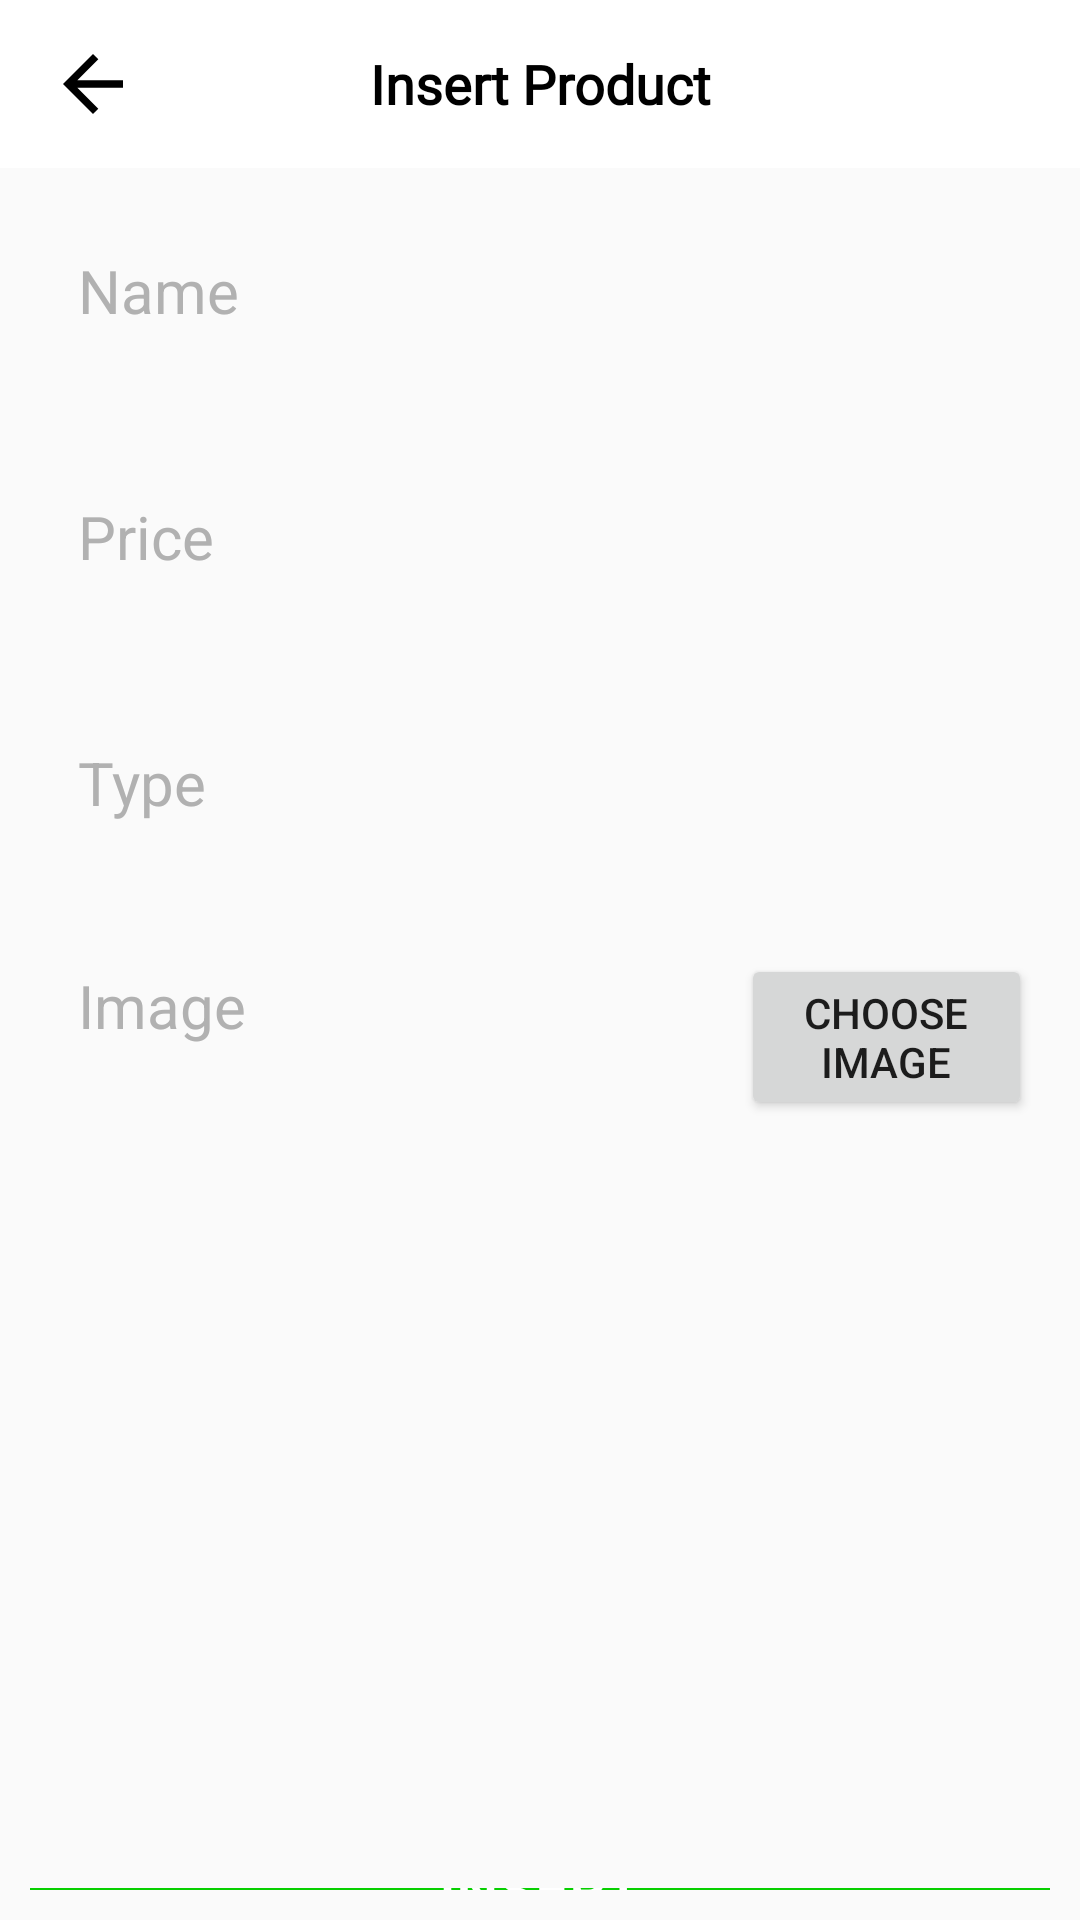

Named icons in this screenshot (1080px×1920px) and their centers, point (x, y):
arrow back: point (93, 84)
